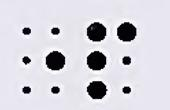dot_5: (23, 27, 66, 95)
two_cell_alphabet_patuloy: (87, 22, 138, 100)
